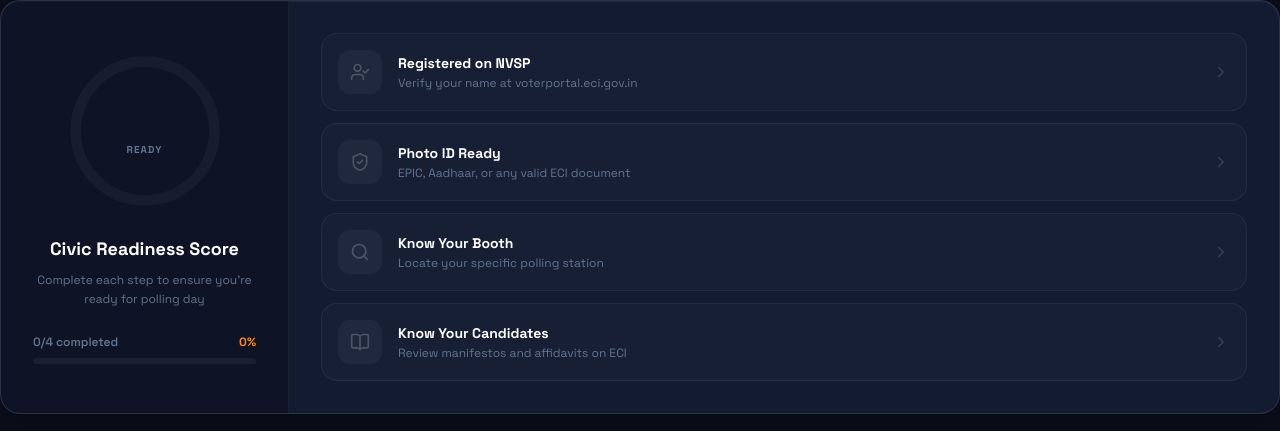
VoterReadiness Component › updates progress when a task is clicked
The image size is (1280, 431).
Click the heading "Registered on NVSP": [464, 63] box x1=398 y1=53 x2=530 y2=73
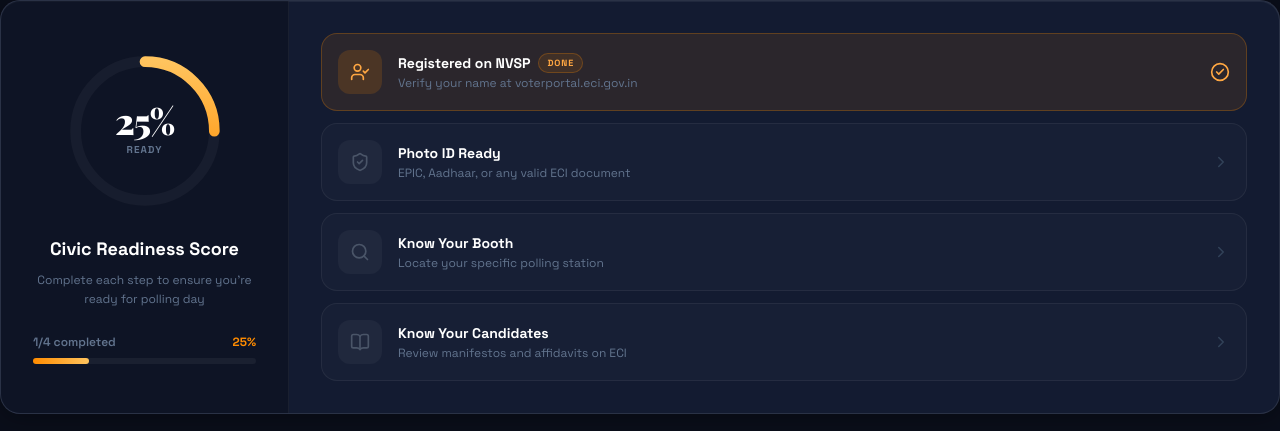
Now the 1st text "25%" is shown, box x1=115 y1=102 x2=174 y2=138
